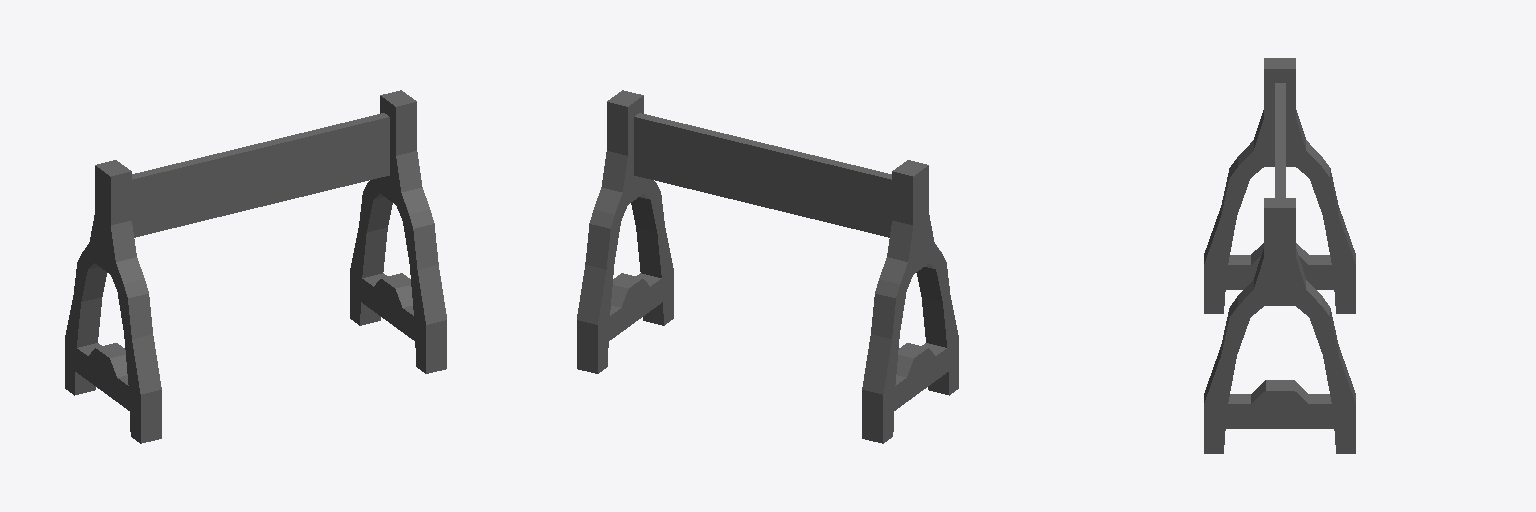
File: fence.obj
The picture shows the model from 3 angles: view 1: azimuth 30°, elevation 25°; view 2: azimuth 150°, elevation 25°; view 3: azimuth 270°, elevation 25°; orthographic projection.
Parts seen in each view (by area): view 1: fence; view 2: fence; view 3: fence.
Part boxes in pixels (x1,y1,x2,y2): fence: (65,90,446,443); fence: (577,90,958,443); fence: (1204,58,1355,453).
Bounding box in the file's own units: 12.57 × 9.6 × 5.39.